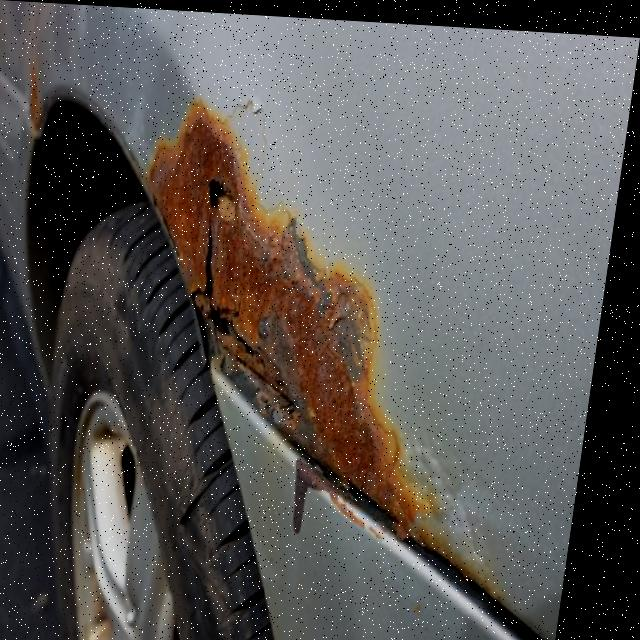corrosion: (114, 92, 488, 479), (22, 55, 56, 135)
